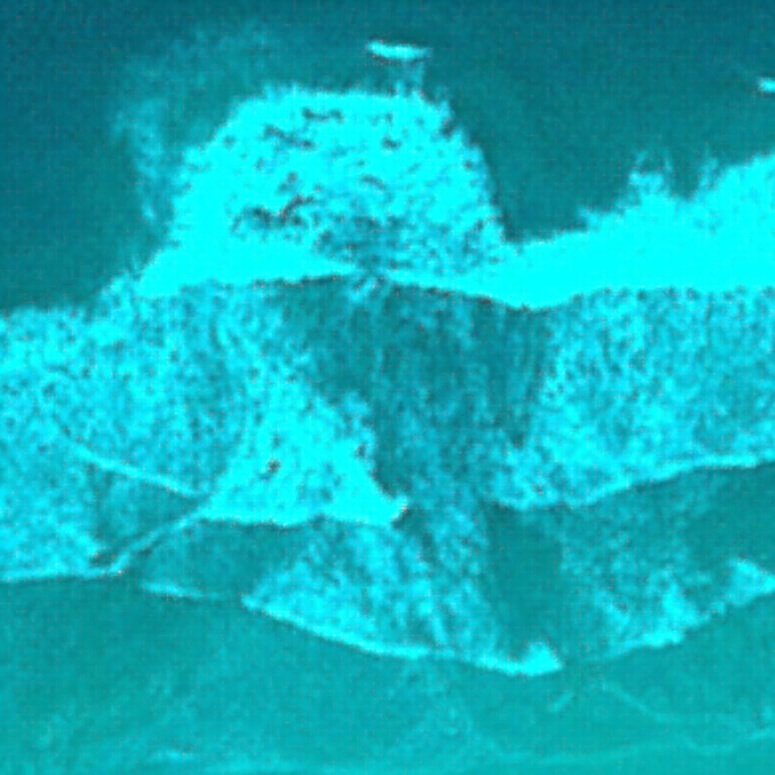rip_current: (197, 89, 576, 630)
